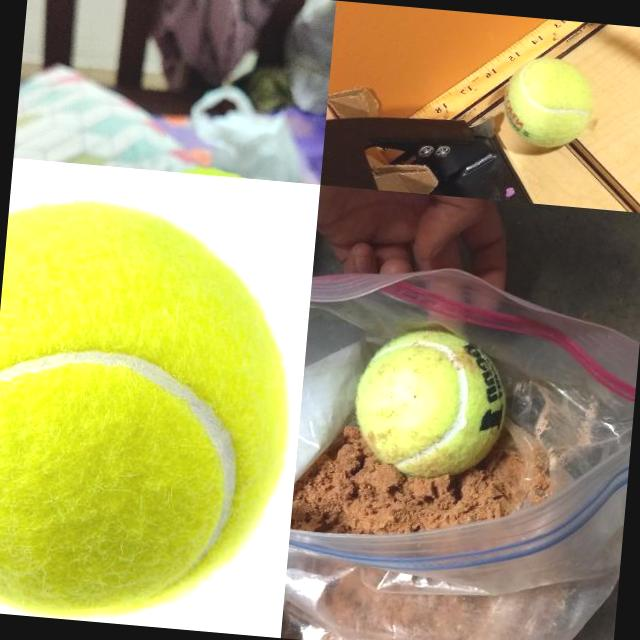Tennis Ball: (0, 196, 307, 635), (347, 322, 512, 484), (499, 52, 598, 152)
